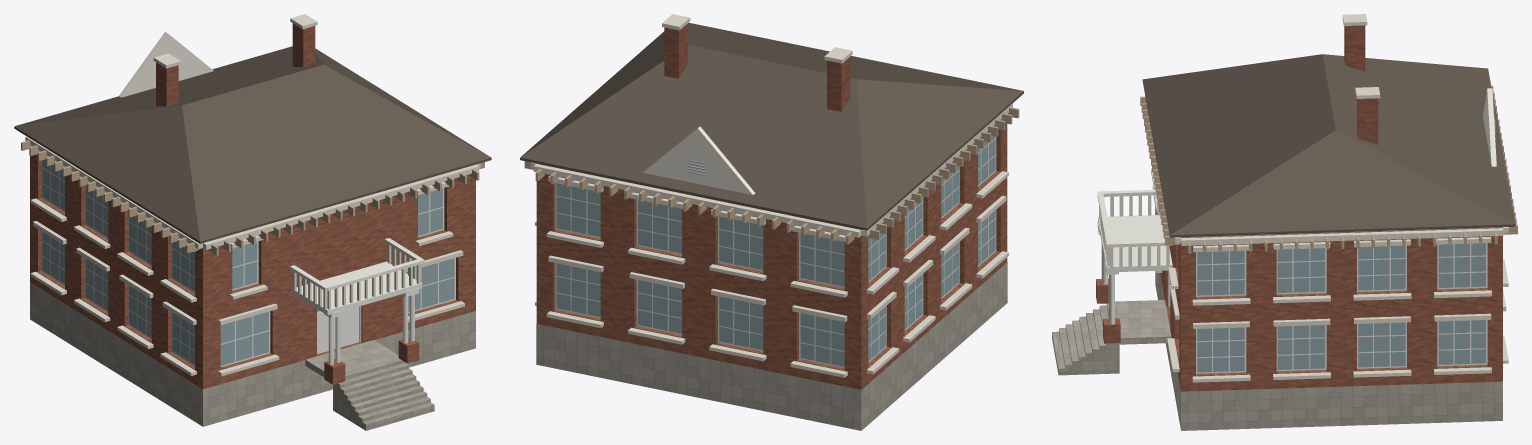
3 renders of one model, left to right at view 1: azimuth 30°, elevation 25°; view 2: azimuth 150°, elevation 25°; view 3: azimuth 270°, elevation 25°, orthographic. The views are drawn at different scales.
Visible parts, largest first — view 1: dorm__tileroof, dorm__brick, dorm__stone, dorm__glass, dorm__lintel, dorm__stair-front, dorm__column, dorm__bracket, dorm__frame, dorm__dormer, dorm__baluster, dorm__chimney (+2 smaller); view 2: dorm__tileroof, dorm__brick, dorm__glass, dorm__stone, dorm__lintel, dorm__frame, dorm__bracket, dorm__dormer, dorm__chimney; view 3: dorm__tileroof, dorm__brick, dorm__glass, dorm__stone, dorm__lintel, dorm__frame, dorm__column, dorm__stair-front, dorm__bracket, dorm__threshold-front, dorm__chimney, dorm__baluster (+1 smaller).
Boxes of the visible parts, x1,y1,x2,y2 form: dorm__tileroof: [14, 46, 491, 243]; dorm__brick: [30, 154, 475, 389]; dorm__stone: [30, 282, 475, 426]; dorm__glass: [42, 159, 454, 365]; dorm__lintel: [25, 14, 480, 376]; dorm__stair-front: [333, 358, 434, 430]; dorm__column: [290, 238, 424, 364]; dorm__bracket: [21, 140, 484, 255]; dorm__frame: [41, 160, 455, 367]; dorm__dormer: [119, 32, 213, 97]; dorm__baluster: [293, 244, 421, 309]; dorm__chimney: [156, 23, 315, 106]; dorm__tileroof: [520, 22, 1023, 230]; dorm__brick: [536, 123, 1007, 389]; dorm__glass: [556, 135, 995, 366]; dorm__stone: [536, 262, 1007, 430]; dorm__lintel: [531, 14, 1012, 377]; dorm__frame: [555, 136, 996, 368]; dorm__bracket: [524, 107, 1019, 244]; dorm__dormer: [643, 126, 754, 194]; dorm__chimney: [664, 23, 850, 111]; dorm__tileroof: [1142, 54, 1515, 237]; dorm__brick: [1096, 207, 1502, 391]; dorm__glass: [1197, 243, 1485, 372]; dorm__stone: [1155, 273, 1502, 430]; dorm__lintel: [1151, 14, 1508, 382]; dorm__frame: [1168, 243, 1487, 373]; dorm__column: [1097, 189, 1172, 324]; dorm__stair-front: [1052, 303, 1119, 375]; dorm__bracket: [1140, 85, 1517, 253]; dorm__threshold-front: [1115, 300, 1171, 344]; dorm__chimney: [1344, 25, 1378, 144]; dorm__baluster: [1099, 195, 1169, 267].
Bounding box in the file's own units: 16.95 × 13.92 × 19.78.
15 materials, 3 textured.
